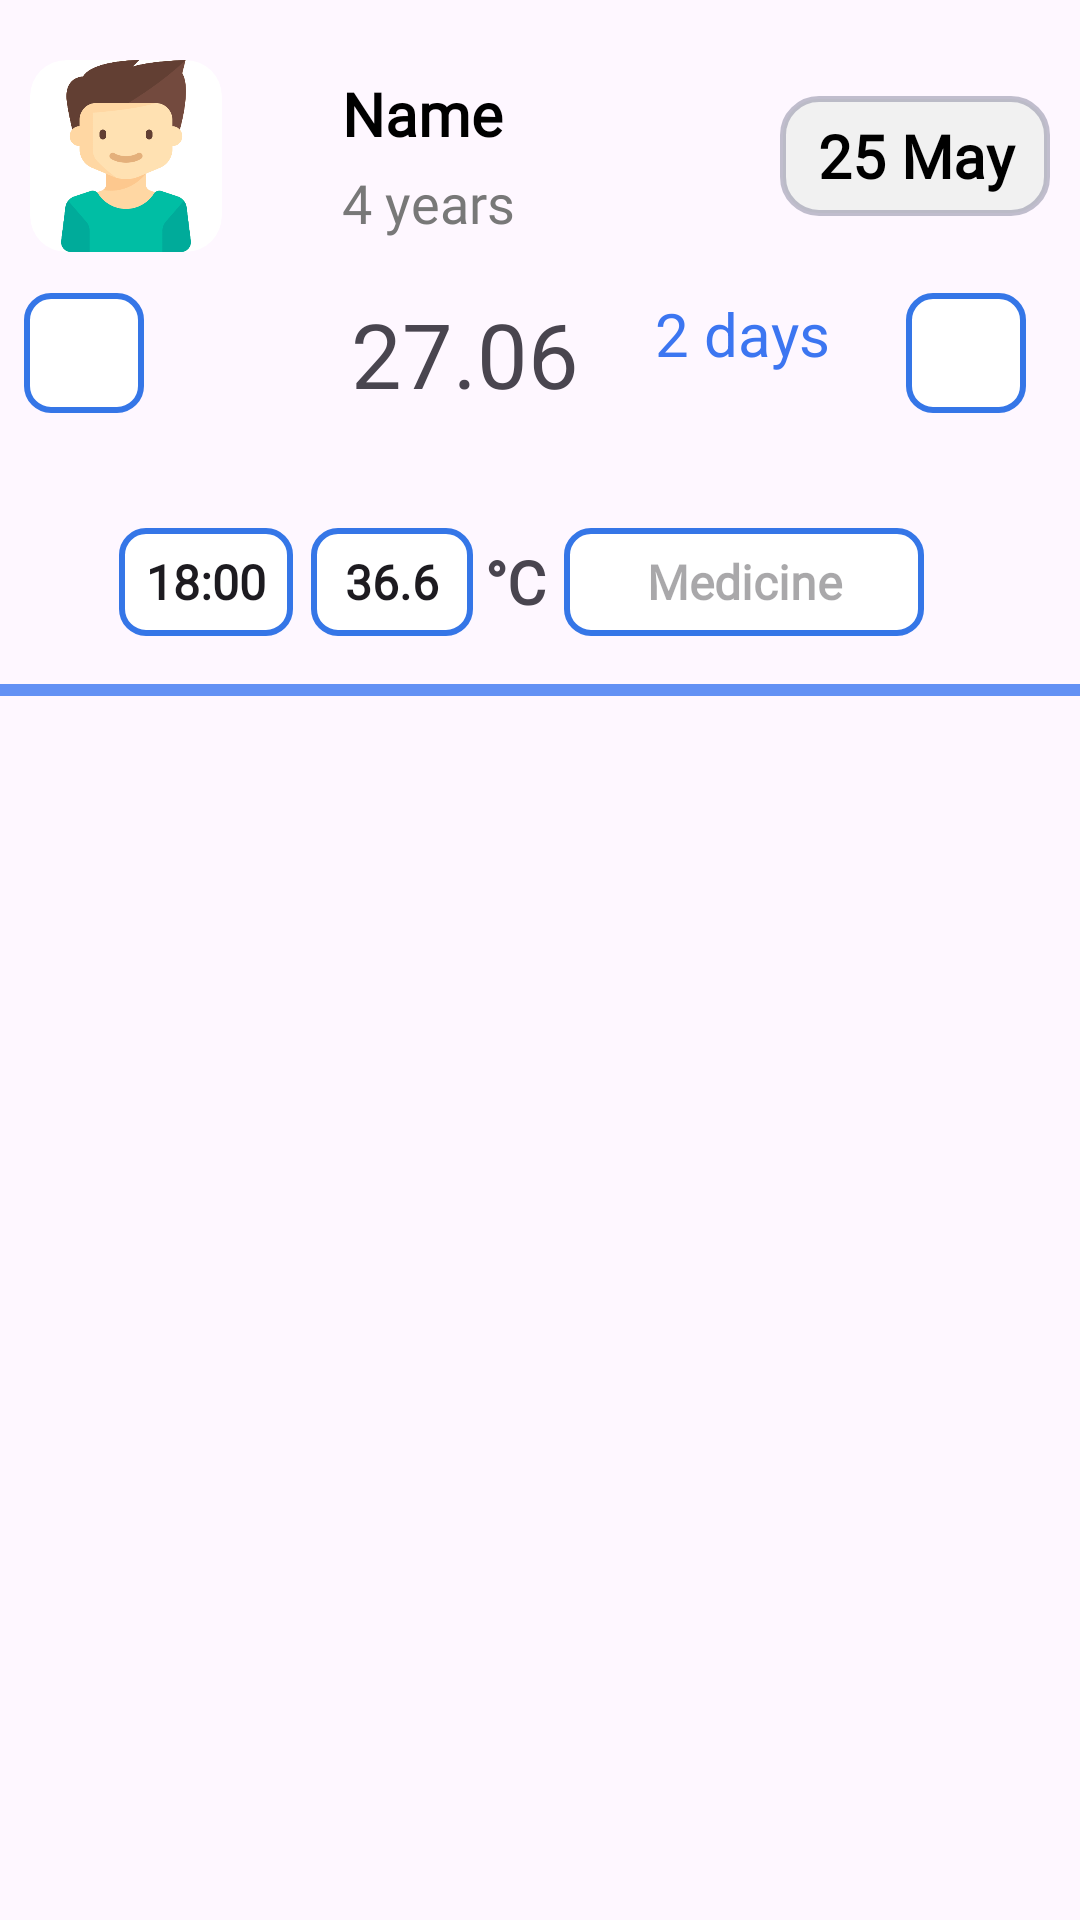

Screen size 1080px x 1920px. Icon name, then its center in pixels as (x=x, y=y):
Child photo: (x=126, y=156)
